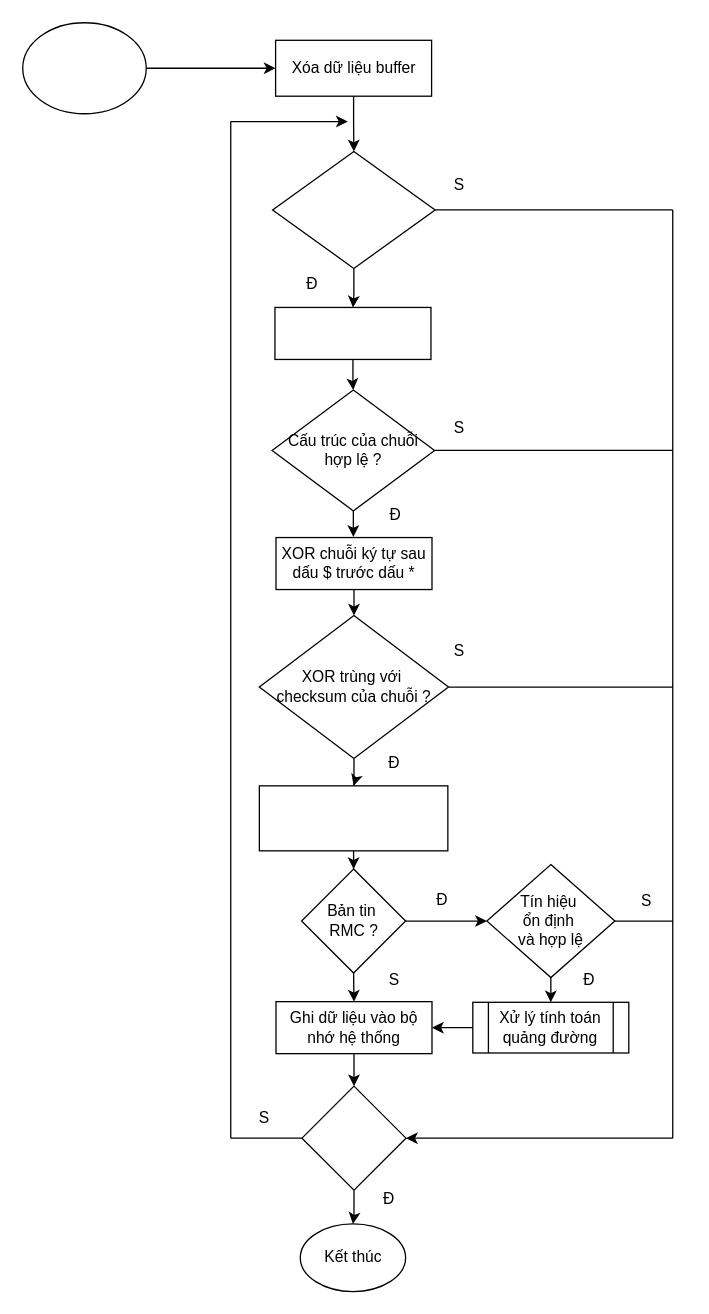
Image size: 709x1314. Some labels were removed from this diagram. Each missing label, with the centre of its shape:
Bắt đầu: the point at 83,67
Có dữ liệu ?: the point at 353,209
Cờ GPS tắt ?: the point at 353,1137
Xử lý sự kiện tương ứng với các câu lệnh NMEA: the point at 353,818
Đọc và tích lũy dữ liệu vào buffer: the point at 352,332
